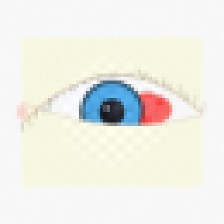hemorrhage_spot: (116, 83, 181, 135)
